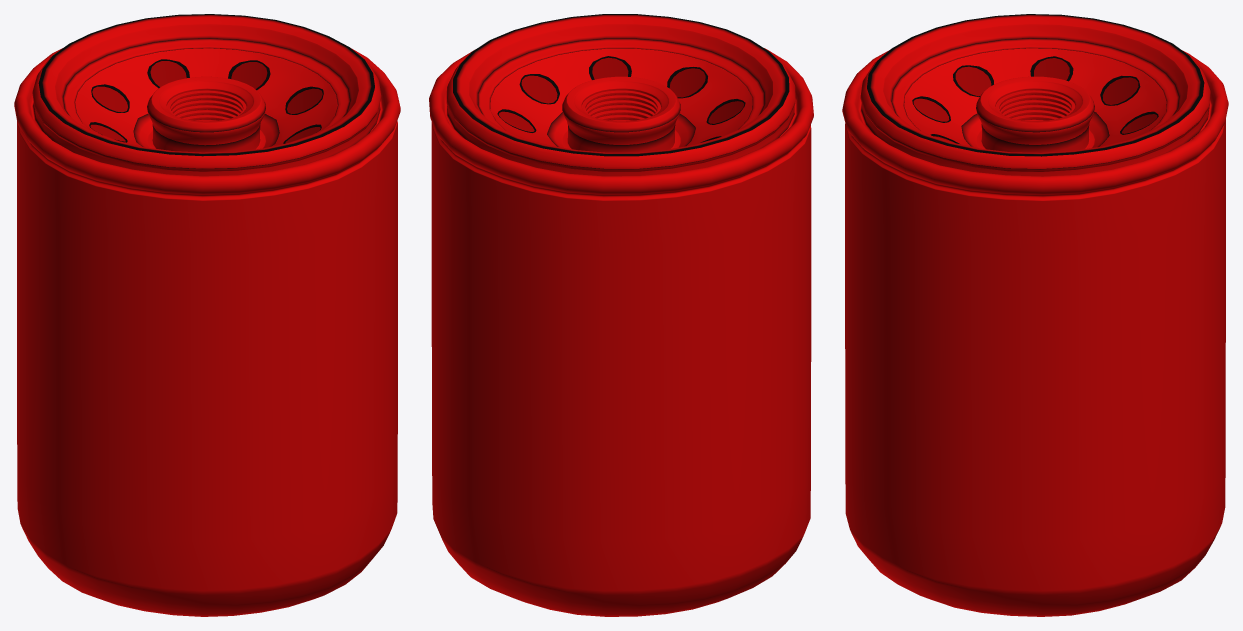
The model's file is Step5.fbx.
The picture shows the model from 3 angles, left to right: view 1: azimuth 30°, elevation 25°; view 2: azimuth 150°, elevation 25°; view 3: azimuth 270°, elevation 25°; orthographic projection.
Parts seen in each view (by area): view 1: Pump_Gear_V20_unwrapped:Filter; view 2: Pump_Gear_V20_unwrapped:Filter; view 3: Pump_Gear_V20_unwrapped:Filter.
Part boxes in pixels (x1,y1,x2,y2): Pump_Gear_V20_unwrapped:Filter: (14,14,400,616); Pump_Gear_V20_unwrapped:Filter: (429,14,813,616); Pump_Gear_V20_unwrapped:Filter: (842,14,1228,616).
Size of the model in its own units: 6.03 by 8.21 by 6.03.
